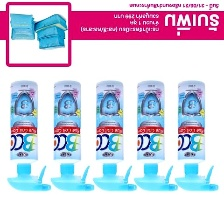cleaning_solution: (91, 77, 140, 194), (131, 78, 180, 195), (5, 77, 52, 194), (173, 78, 220, 195), (50, 78, 96, 193)
